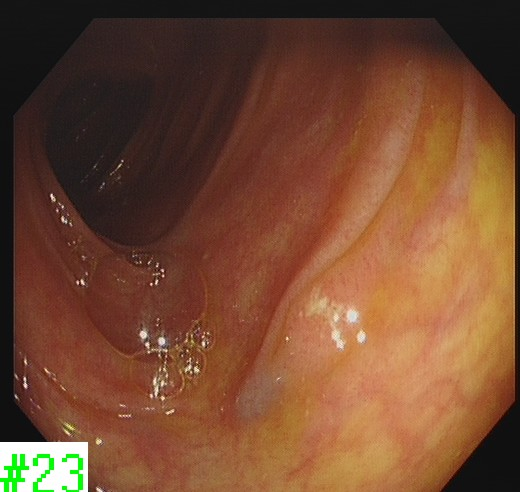adenoma: (274, 248, 381, 382)
